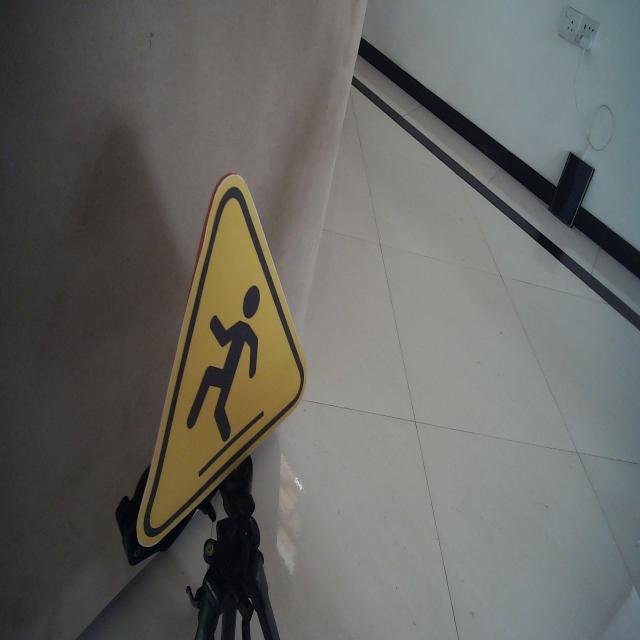slippery_sign: (134, 168, 309, 552)
